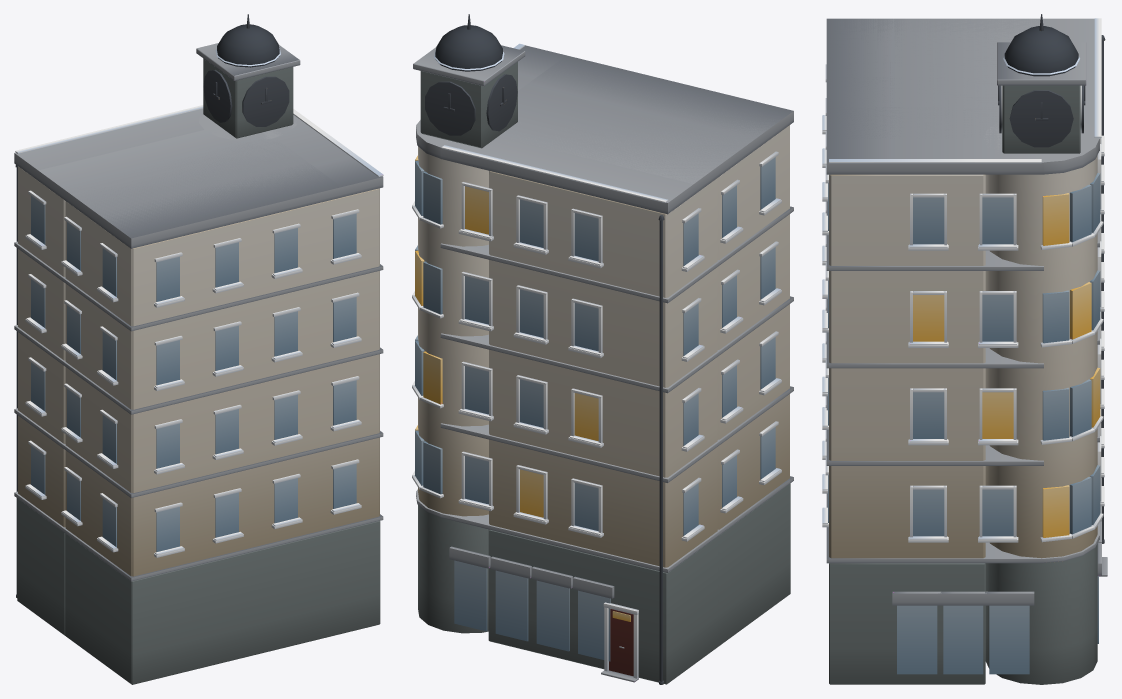
The model's file is ck_midrise_corner_clock.fbx.
The picture shows the model from 3 angles, left to right: view 1: azimuth 30°, elevation 25°; view 2: azimuth 150°, elevation 25°; view 3: azimuth 270°, elevation 25°; orthographic projection. The views are drawn at different scales.
Visible parts, largest first — view 1: ck_midrise_corner_clock; view 2: ck_midrise_corner_clock; view 3: ck_midrise_corner_clock.
Part boxes in pixels (bbox=[...]): ck_midrise_corner_clock: bbox=[14, 14, 383, 684]; ck_midrise_corner_clock: bbox=[412, 14, 793, 684]; ck_midrise_corner_clock: bbox=[822, 14, 1107, 684].
Bounding box in the file's own units: 2931 × 6000 × 2394.
